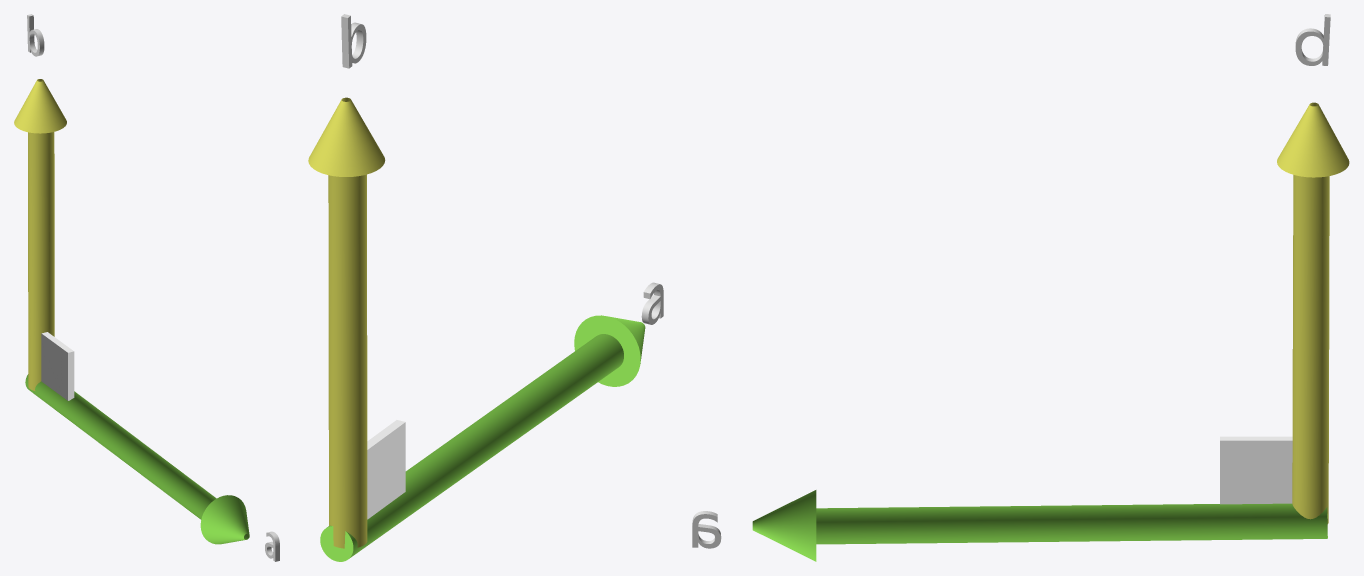
3 views of the same model, side by side, from view 1: azimuth 30°, elevation 25°; view 2: azimuth 150°, elevation 25°; view 3: azimuth 270°, elevation 25° (orthographic). The views are drawn at different scales.
Visible parts, largest first — view 1: Cylinder.032, Cylinder.033, Cone.026, Cube.001, Cone.025, b.006; view 2: Cylinder.032, Cylinder.033, Cone.025, Cube.001, Cone.026, b.006, a.006; view 3: Cylinder.033, Cylinder.032, Cube.001, Cone.025, Cone.026.
Boxes of the visible parts, left/top/right/bottom form: Cylinder.032: left=28, top=132, right=54, bottom=390; Cylinder.033: left=25, top=374, right=216, bottom=519; Cone.026: left=200, top=495, right=249, bottom=544; Cube.001: left=41, top=332, right=74, bottom=400; Cone.025: left=14, top=79, right=66, bottom=133; b.006: left=27, top=14, right=44, bottom=55; Cylinder.032: left=328, top=174, right=367, bottom=548; Cylinder.033: left=320, top=334, right=623, bottom=561; Cone.025: left=308, top=97, right=385, bottom=176; Cube.001: left=367, top=420, right=405, bottom=519; Cone.026: left=574, top=315, right=645, bottom=386; b.006: left=341, top=14, right=363, bottom=68; a.006: left=641, top=282, right=660, bottom=324; Cylinder.033: left=816, top=503, right=1327, bottom=544; Cylinder.032: left=1292, top=175, right=1329, bottom=523; Cube.001: left=1220, top=436, right=1292, bottom=504; Cone.025: left=1277, top=102, right=1349, bottom=177; Cone.026: left=752, top=490, right=816, bottom=561.
Bounding box in the file's own units: 0.0207 × 0.1636 × 0.1808.
